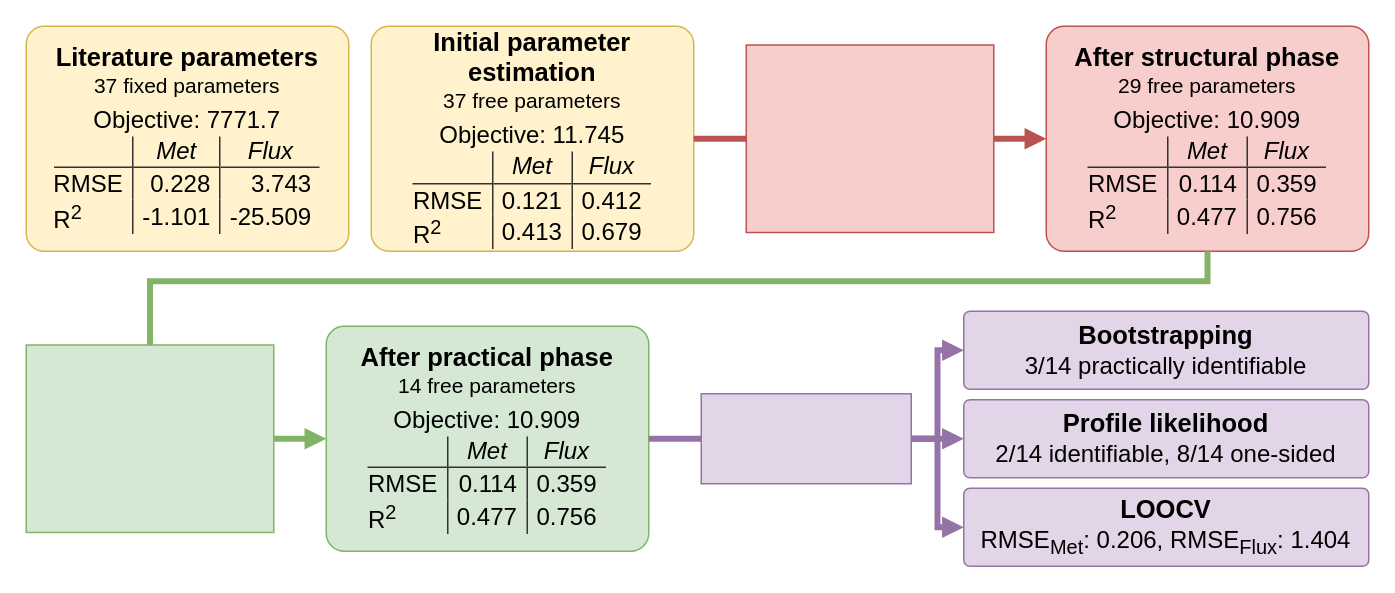
Some shapes in this 1395 by 593 pixel diagram are drawn without their labels. The shapes that lost their labels are listed below. From the top down, each one's centre as x and y in pixels, then its label:
At (869,138): "Structural identifiability analysis Iterations: 8 Fixed: 8 parameters".
At (149,438): "Practical identifiability analysis Iterations: 16 Fixed: 15 parameters".
At (805,438): "Model characterization".
